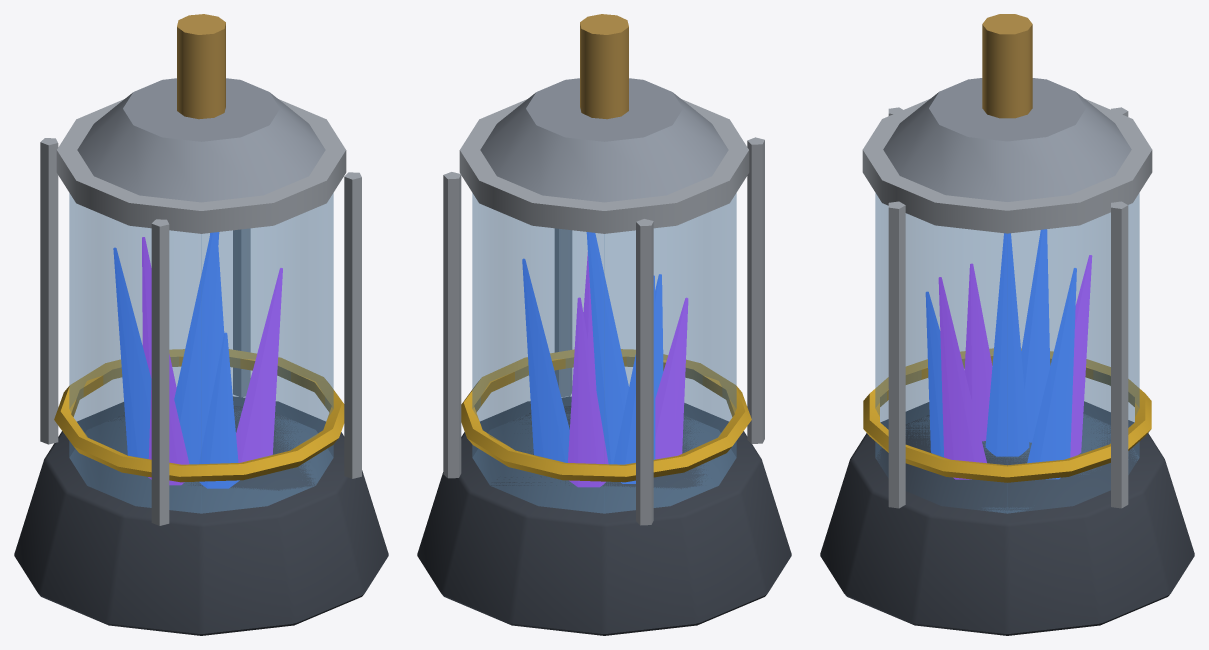
The model's file is coil_dilithium_crystal_chamber.glb.
The picture shows the model from 3 angles, left to right: view 1: azimuth 30°, elevation 25°; view 2: azimuth 150°, elevation 25°; view 3: azimuth 270°, elevation 25°; orthographic projection.
Parts seen in each view (by area): view 1: coil_dilithium_crystal_chamber; view 2: coil_dilithium_crystal_chamber; view 3: coil_dilithium_crystal_chamber.
Part boxes in pixels (box(x1,y1,x2,y2)): coil_dilithium_crystal_chamber: box(14, 14, 388, 635); coil_dilithium_crystal_chamber: box(417, 14, 791, 635); coil_dilithium_crystal_chamber: box(820, 14, 1194, 635).
Bounding box in the file's own units: 1.19 × 1.87 × 1.19.
